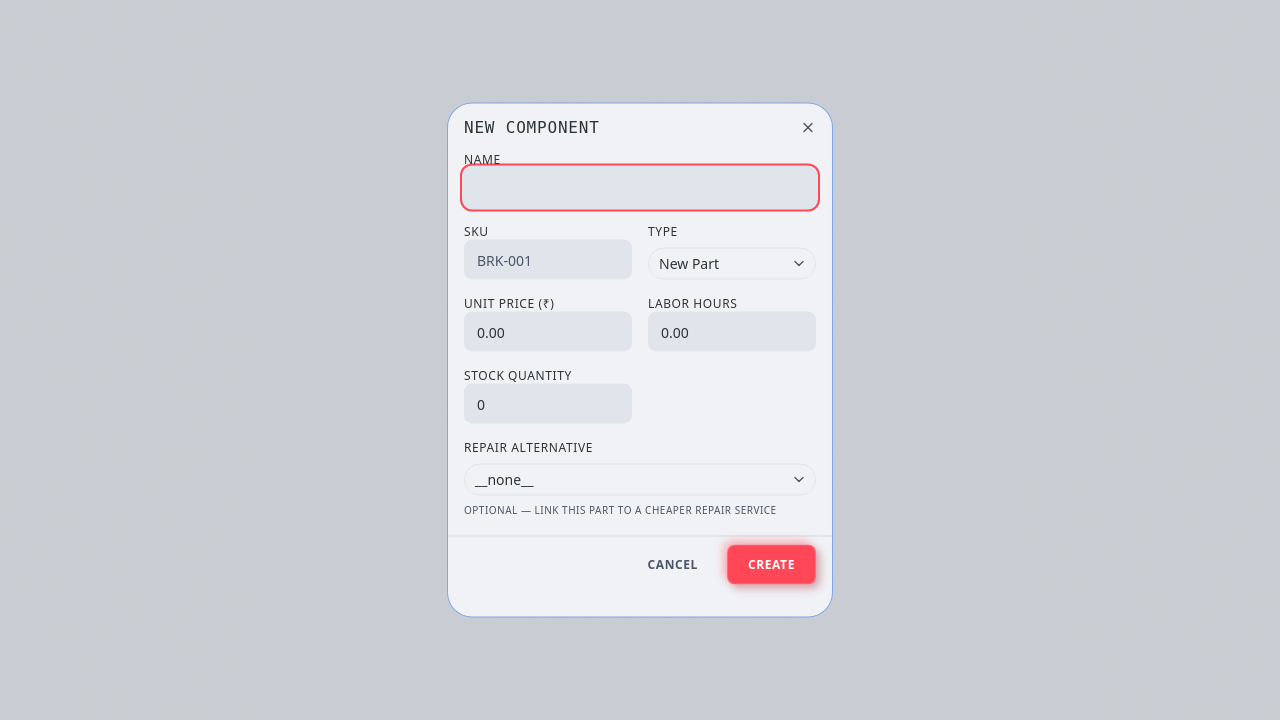
ComponentForm validation › shows an error when name is empty
What coordinates should you click on to do the following:
click the button "Create"
I would click on:
 (772, 564)
Its box is [727,544,816,584].
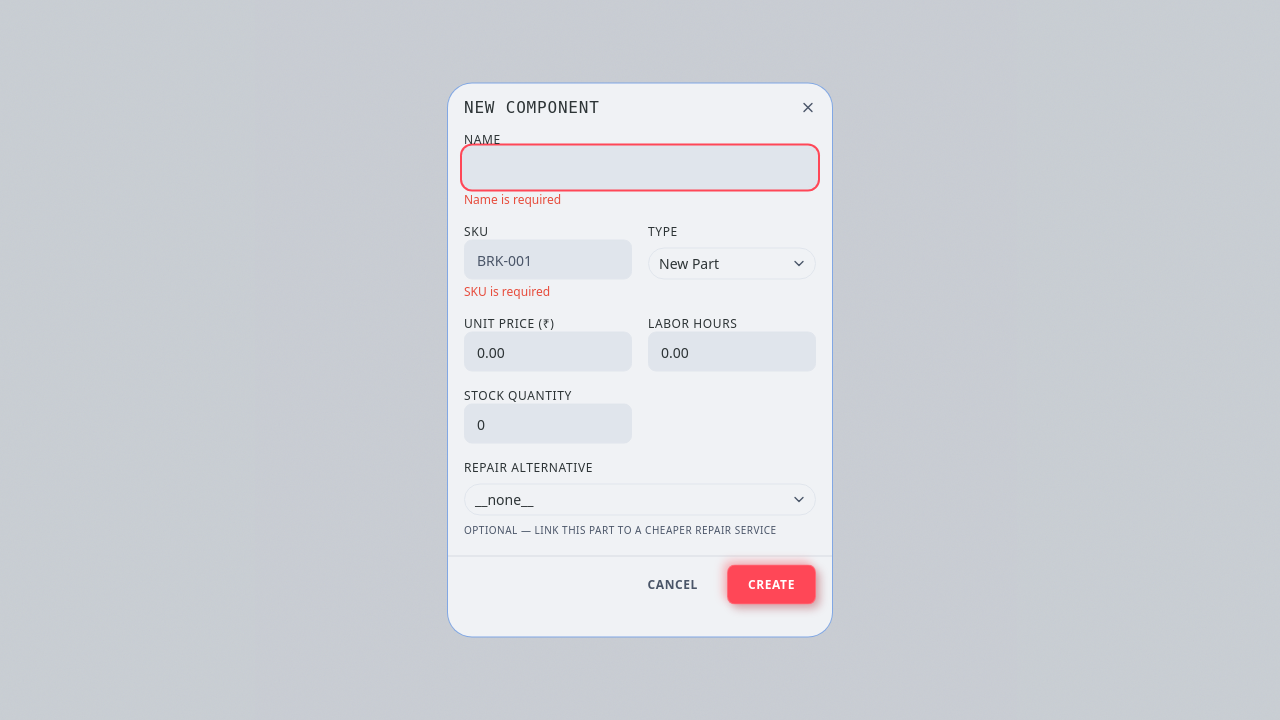
Now the text "Name is required" is shown, box [464,190,561,208]
